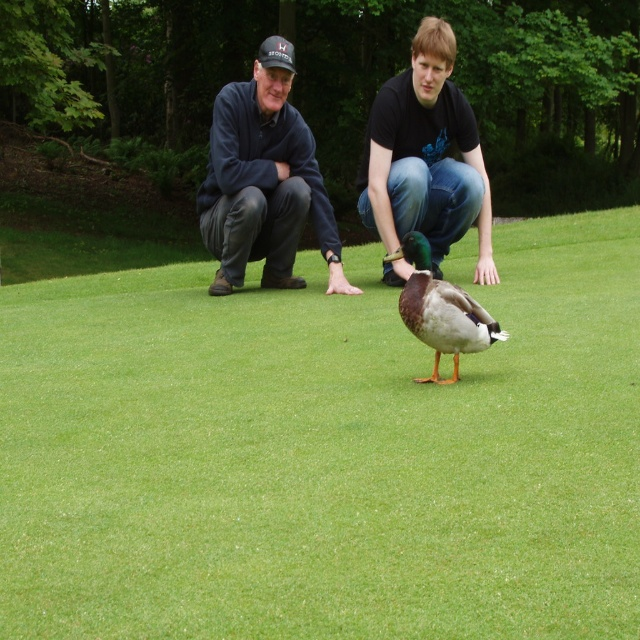Duck: (379, 228, 507, 388)
